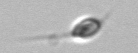plankton: (63, 11, 110, 44)
